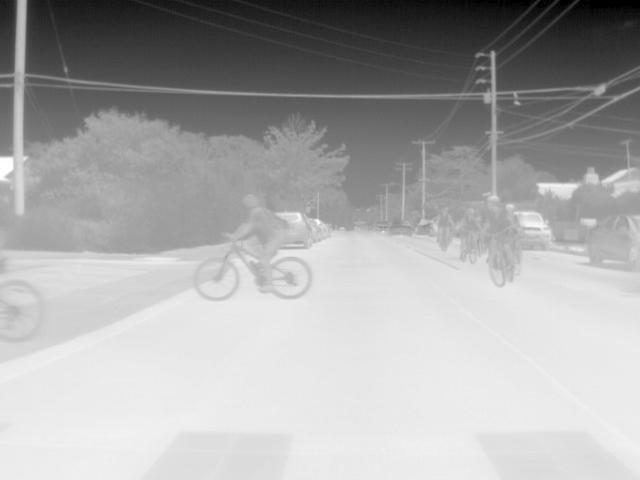car: (586, 212, 640, 267), (514, 209, 556, 252), (270, 210, 314, 248), (385, 218, 416, 238), (312, 219, 330, 239), (307, 220, 322, 242), (373, 218, 390, 232)
person: (225, 194, 287, 294), (480, 193, 523, 275), (453, 208, 482, 255), (432, 207, 455, 244), (502, 202, 523, 236)
